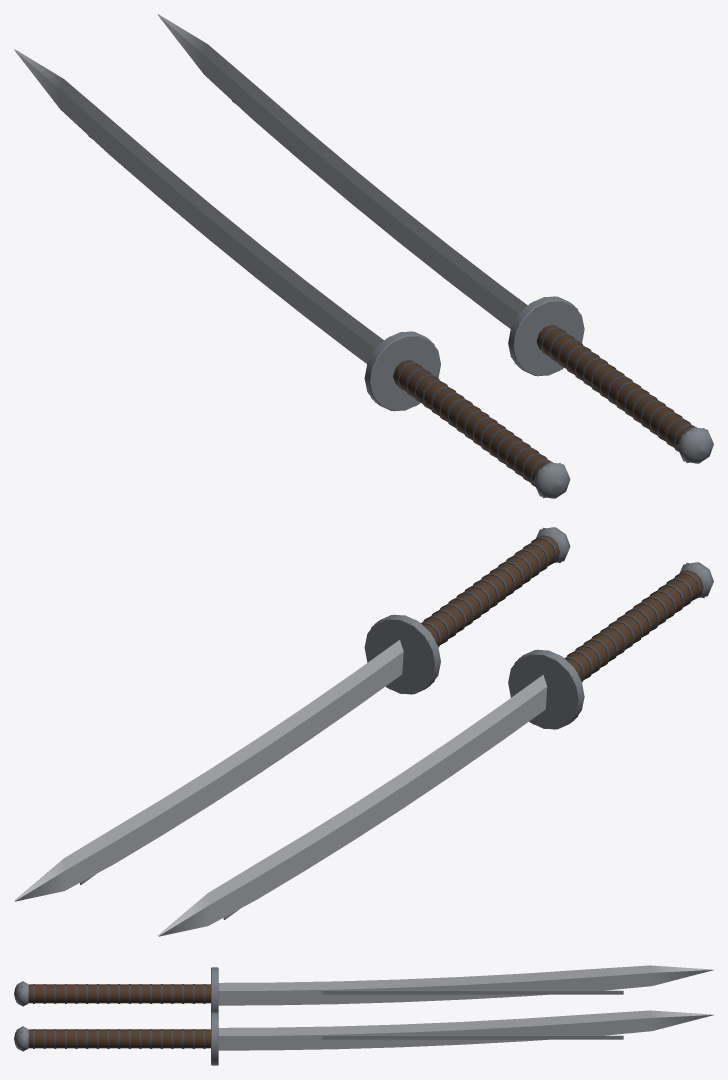
The model's file is m_twinkat.glb.
3 renders of one model, top to bottom at view 1: azimuth 30°, elevation 25°; view 2: azimuth 150°, elevation 25°; view 3: azimuth 270°, elevation 25°, orthographic. The views are drawn at different scales.
Visible parts, largest first — view 1: L0, L1; view 2: L0, L1; view 3: L0, L1.
Boxes of the visible parts, bbox=[...] form: L0: bbox=[14, 14, 713, 498]; L1: bbox=[371, 296, 712, 498]; L0: bbox=[14, 527, 713, 936]; L1: bbox=[371, 527, 705, 729]; L0: bbox=[14, 965, 713, 1065]; L1: bbox=[16, 967, 217, 1062].
Size of the model in its own units: 0.21 by 0.0763 by 0.9198.
